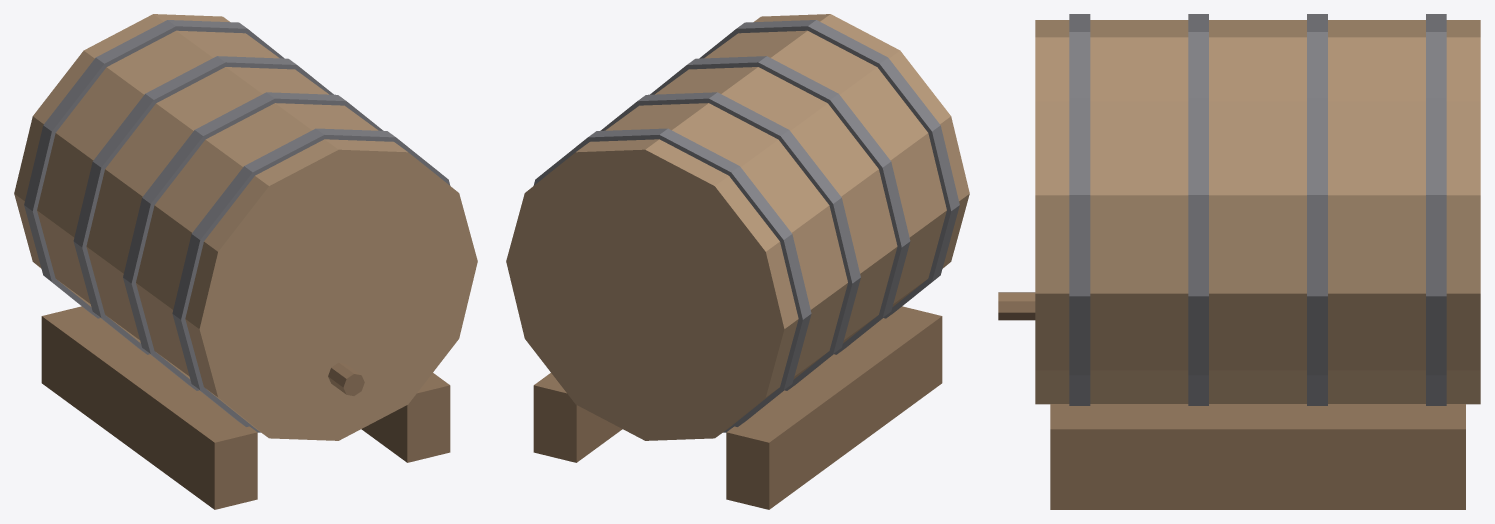
The model's file is cask.glb.
3 renders of one model, left to right at view 1: azimuth 30°, elevation 25°; view 2: azimuth 150°, elevation 25°; view 3: azimuth 270°, elevation 25°, orthographic. The views are drawn at different scales.
Visible parts, largest first — view 1: cask; view 2: cask; view 3: cask.
Boxes of the visible parts, box(x1,y1,x2,y2) form: cask: box(14, 14, 477, 509); cask: box(506, 14, 969, 509); cask: box(998, 14, 1480, 509).
Bounding box in the file's own units: 1.34 × 1.52 × 1.63.
